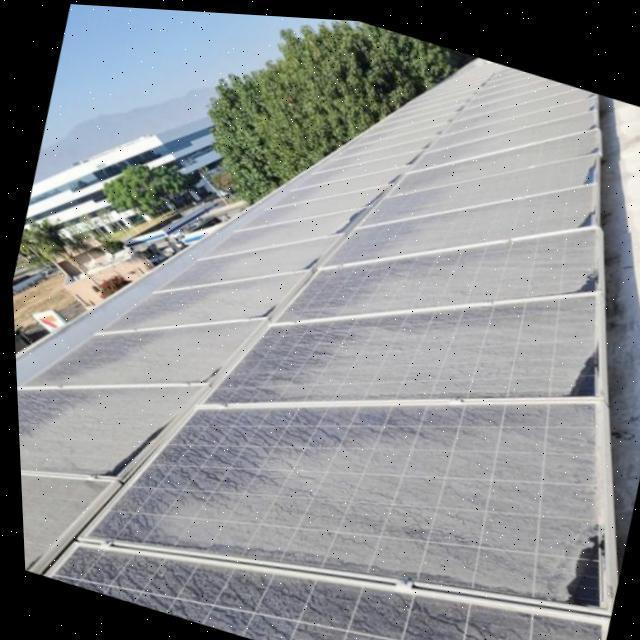Anomaly Solar Panel: (14, 58, 496, 569), (191, 288, 615, 426), (263, 220, 610, 341), (354, 57, 596, 224), (310, 174, 606, 272)
Surface Contaminant: (14, 62, 491, 567), (81, 376, 601, 596), (187, 289, 613, 428), (265, 219, 608, 337), (357, 58, 594, 221), (312, 178, 600, 266)
